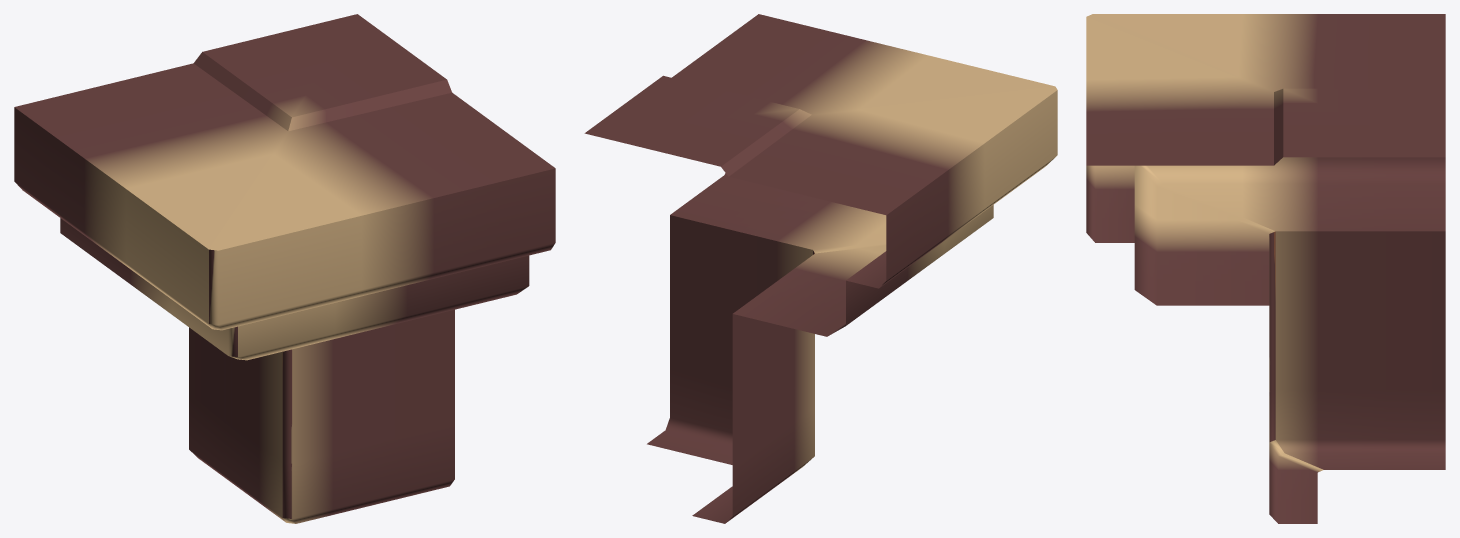
Rendered from DBK_Cornice_C_Corner.fbx.
3 renders of one model, left to right at view 1: azimuth 30°, elevation 25°; view 2: azimuth 150°, elevation 25°; view 3: azimuth 270°, elevation 25°, orthographic. The views are drawn at different scales.
Parts seen in each view (by area): view 1: DBK_Cornice_C_Corner; view 2: DBK_Cornice_C_Corner; view 3: DBK_Cornice_C_Corner.
Boxes of the visible parts, box(x1,y1,x2,y2) form: DBK_Cornice_C_Corner: box(14, 14, 555, 523); DBK_Cornice_C_Corner: box(584, 14, 1057, 523); DBK_Cornice_C_Corner: box(1086, 14, 1445, 523).
Size of the model in its own units: 56.13 by 63.25 by 56.13.
